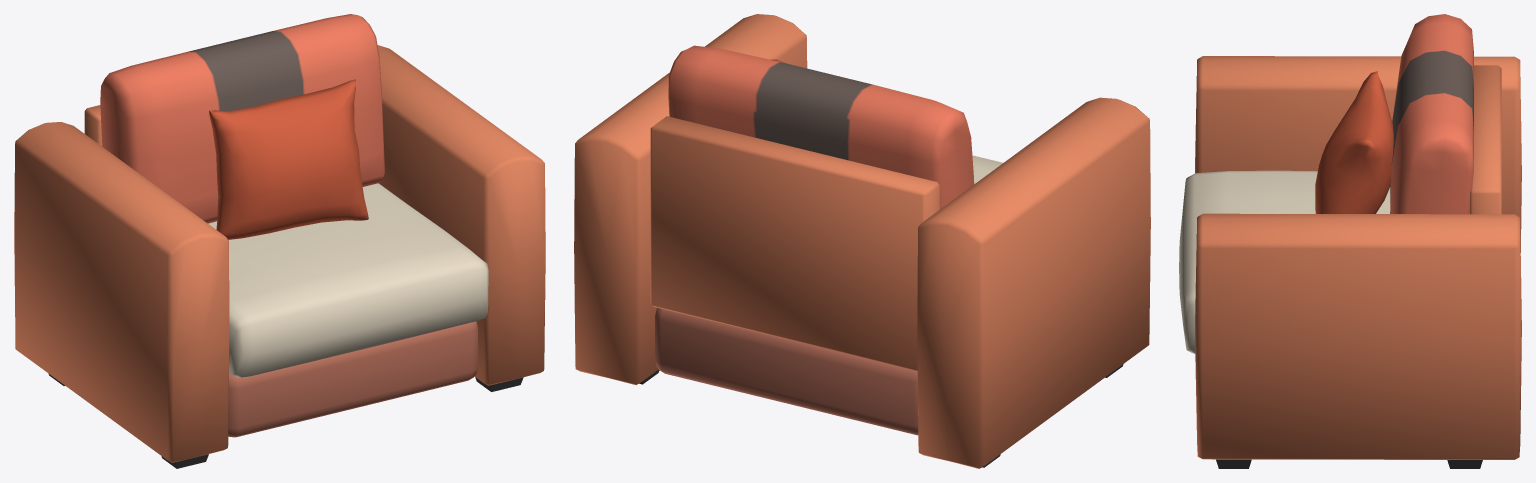
Rendered from chair_02.fbx.
The picture shows the model from 3 angles, left to right: view 1: azimuth 30°, elevation 25°; view 2: azimuth 150°, elevation 25°; view 3: azimuth 270°, elevation 25°; orthographic projection. The views are drawn at different scales.
Parts seen in each view (by area): view 1: chair_02; view 2: chair_02; view 3: chair_02.
Boxes of the visible parts, x1=… form: chair_02: x1=14, y1=14, x2=545, y2=468; chair_02: x1=574, y1=14, x2=1150, y2=468; chair_02: x1=1179, y1=14, x2=1521, y2=468.
Bounding box in the file's own units: 1.67 × 1.28 × 1.28.
